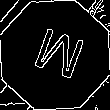M_S: (25, 24, 85, 86)
